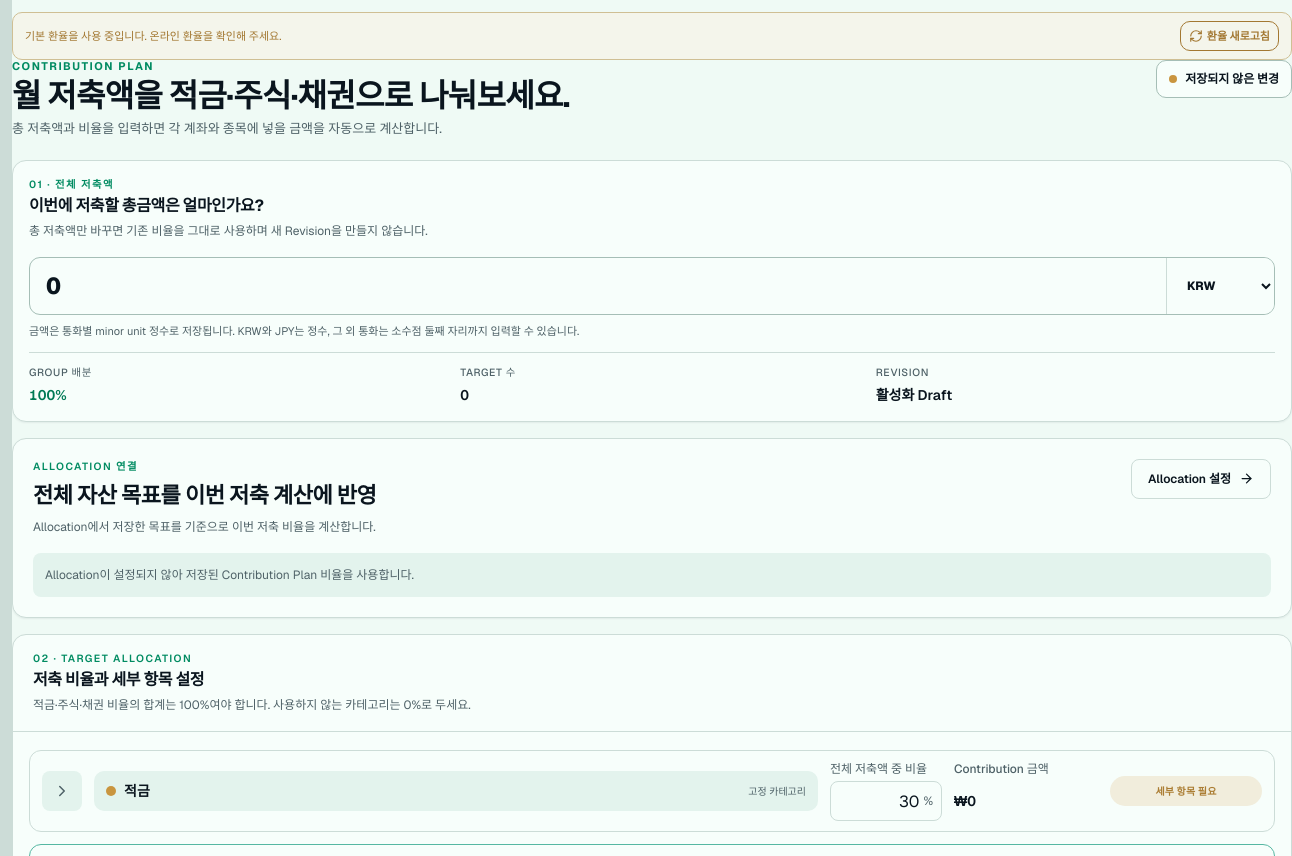
Test: Contribution Plan page › calculates the default 30/60/10 category amounts before targets are complete
This screenshot has width=1292, height=856.
Replace the text in the field named "전체 저축액" with "1000000" at (598, 286), box [30,258,1166,314]
(page scrolled)
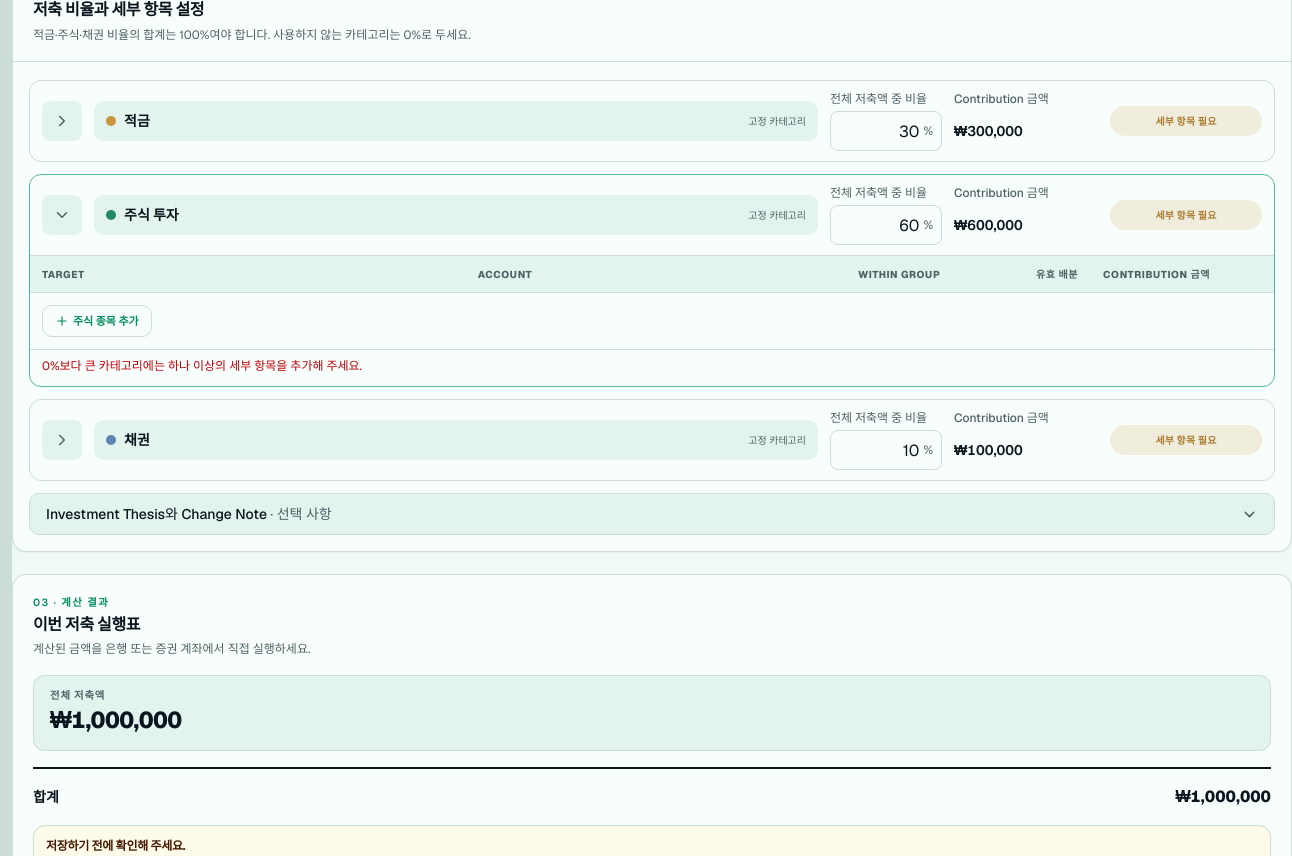
Expected: the text "₩300,000" is shown, [954,122,1023,140]
Expected: the text "₩600,000" is shown, [954,216,1023,234]
Expected: the text "₩100,000" is shown, [954,441,1023,459]
